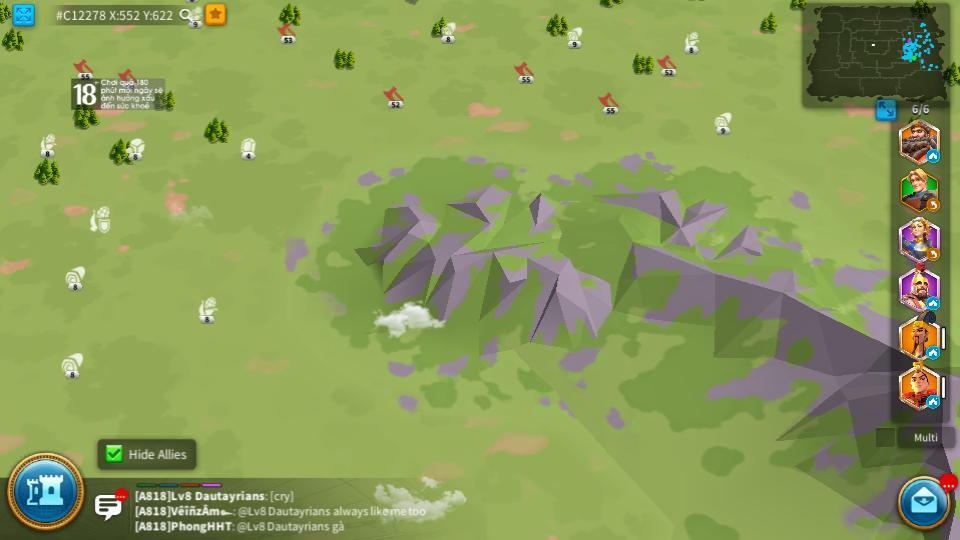gem-z-out: (237, 137, 257, 157)
march_idle: (926, 395, 940, 407), (926, 151, 940, 162), (927, 347, 940, 357), (925, 297, 938, 307)
march_returning: (926, 249, 940, 260), (927, 201, 940, 211)
